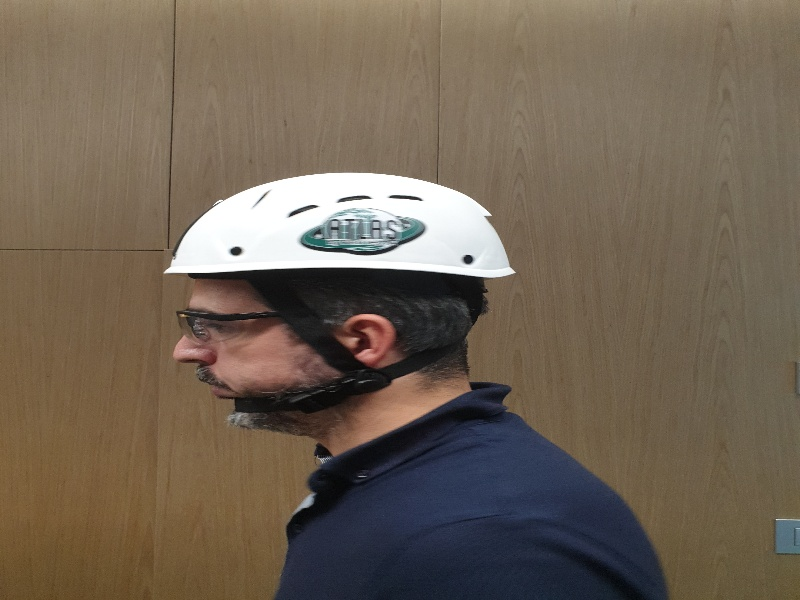Baret: (165, 172, 517, 284)
